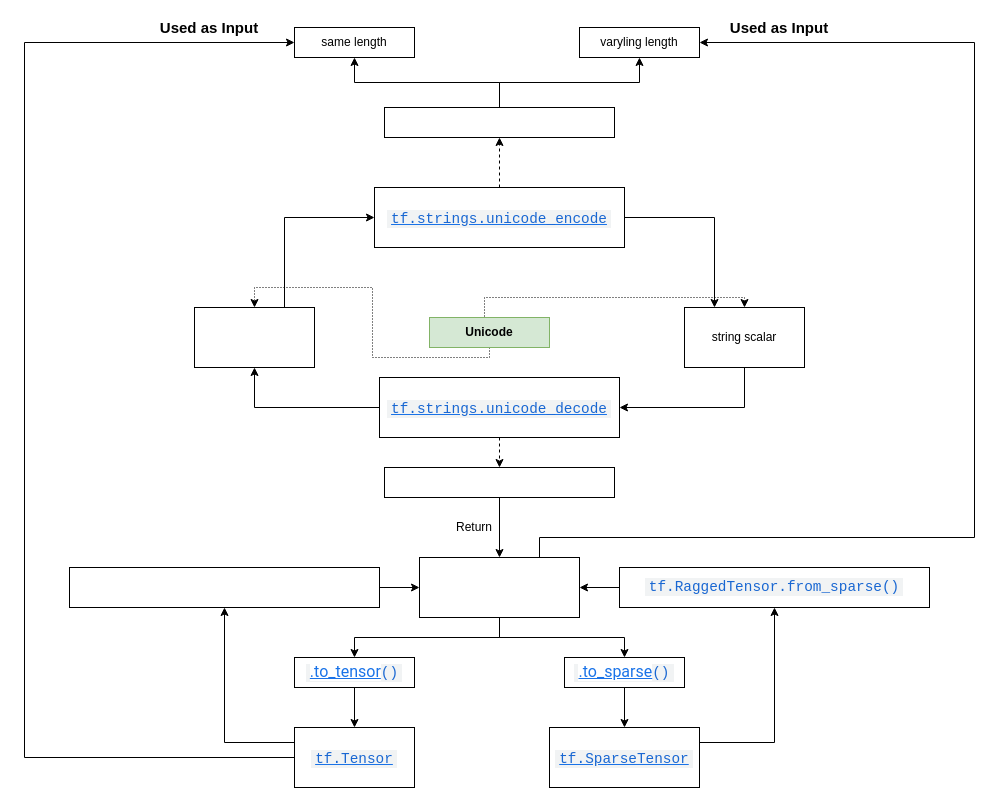
Some shapes in this 1000 by 805 pixel diagram are drawn without their labels. Each missing label, with the box of its shape:
decode multiple strings case: (384, 466, 614, 498)
encode multiple strings case: (384, 106, 614, 138)
tf.RaggedTensor: (418, 556, 580, 618)
tf.RaggedTensor.from_tensor(): (68, 566, 380, 608)
vector code points: (194, 306, 314, 368)
